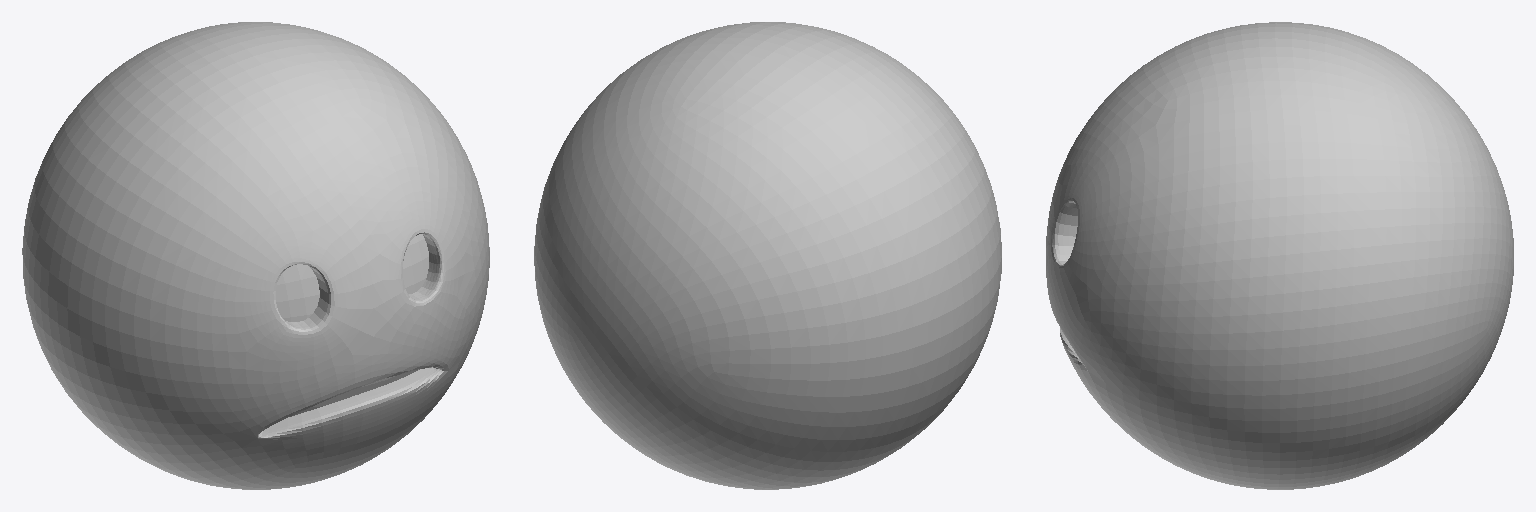
File: smile.obj
The picture shows the model from 3 angles: view 1: azimuth 30°, elevation 25°; view 2: azimuth 150°, elevation 25°; view 3: azimuth 270°, elevation 25°; orthographic projection.
Visible parts, largest first — view 1: Group7782, Group38964_Group38964.001; view 2: Group7782; view 3: Group7782.
Part boxes in pixels (x1,y1,x2,y2): Group7782: (22,22,489,489); Group38964_Group38964.001: (276,234,428,416); Group7782: (534,22,1001,489); Group7782: (1046,22,1513,489).
Size of the model in its own units: 2.18 by 2.19 by 2.19.